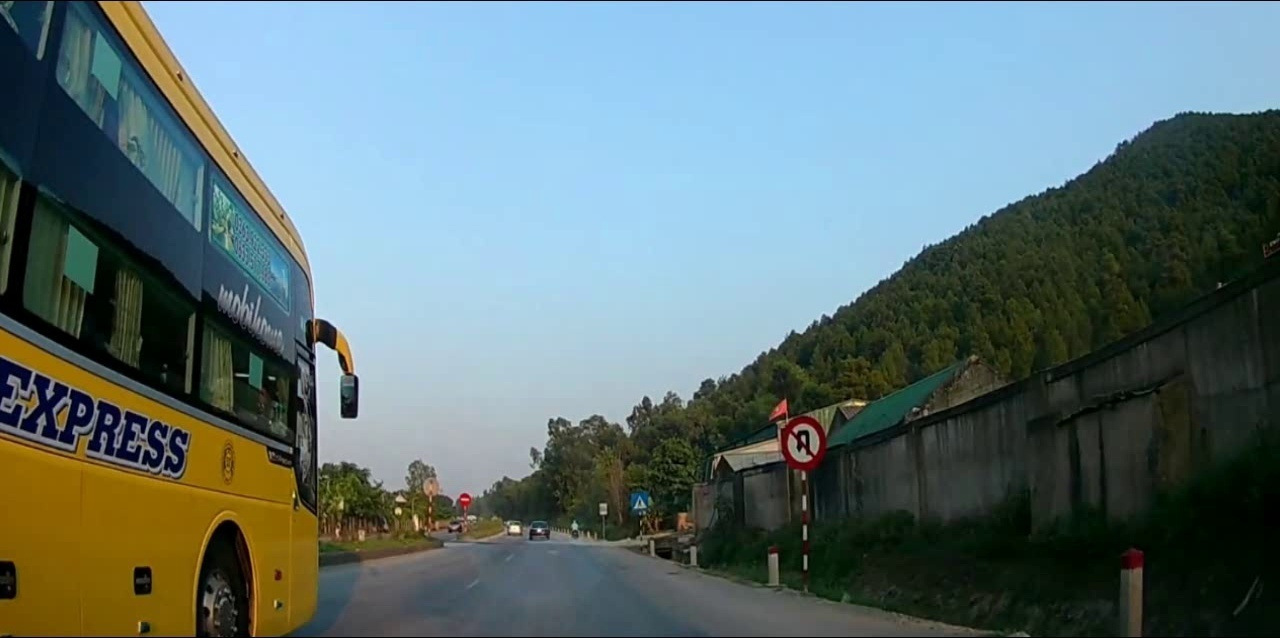Bien khac: (782, 414, 827, 470)
Cam di nguoc chieu: (457, 492, 470, 507)
Nguoi di bo: (630, 492, 649, 513)
